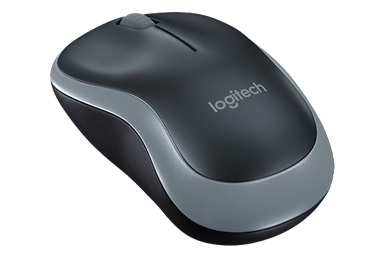Mouse: (45, 9, 341, 249)
